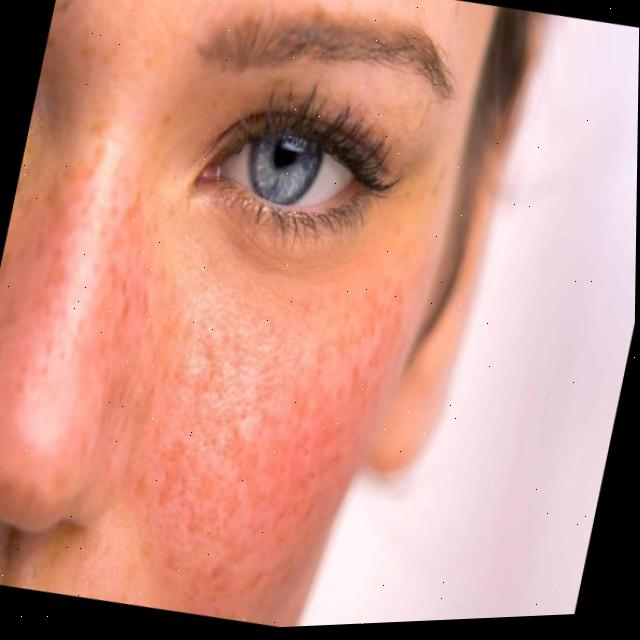Rosacea: (111, 259, 422, 635), (0, 147, 199, 478)
